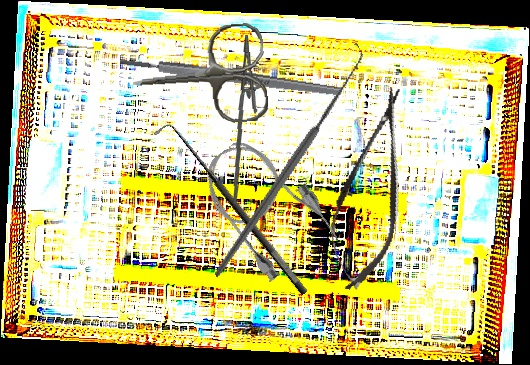Cannula: (188, 123, 346, 289)
Hook Surgical: (151, 42, 423, 279), (152, 114, 311, 307)
Iris Scissors: (128, 21, 270, 132)
Micro Scissor: (317, 80, 426, 297)
Needle Holder: (223, 34, 271, 204)
Scalpel Handle: (119, 54, 342, 99)
